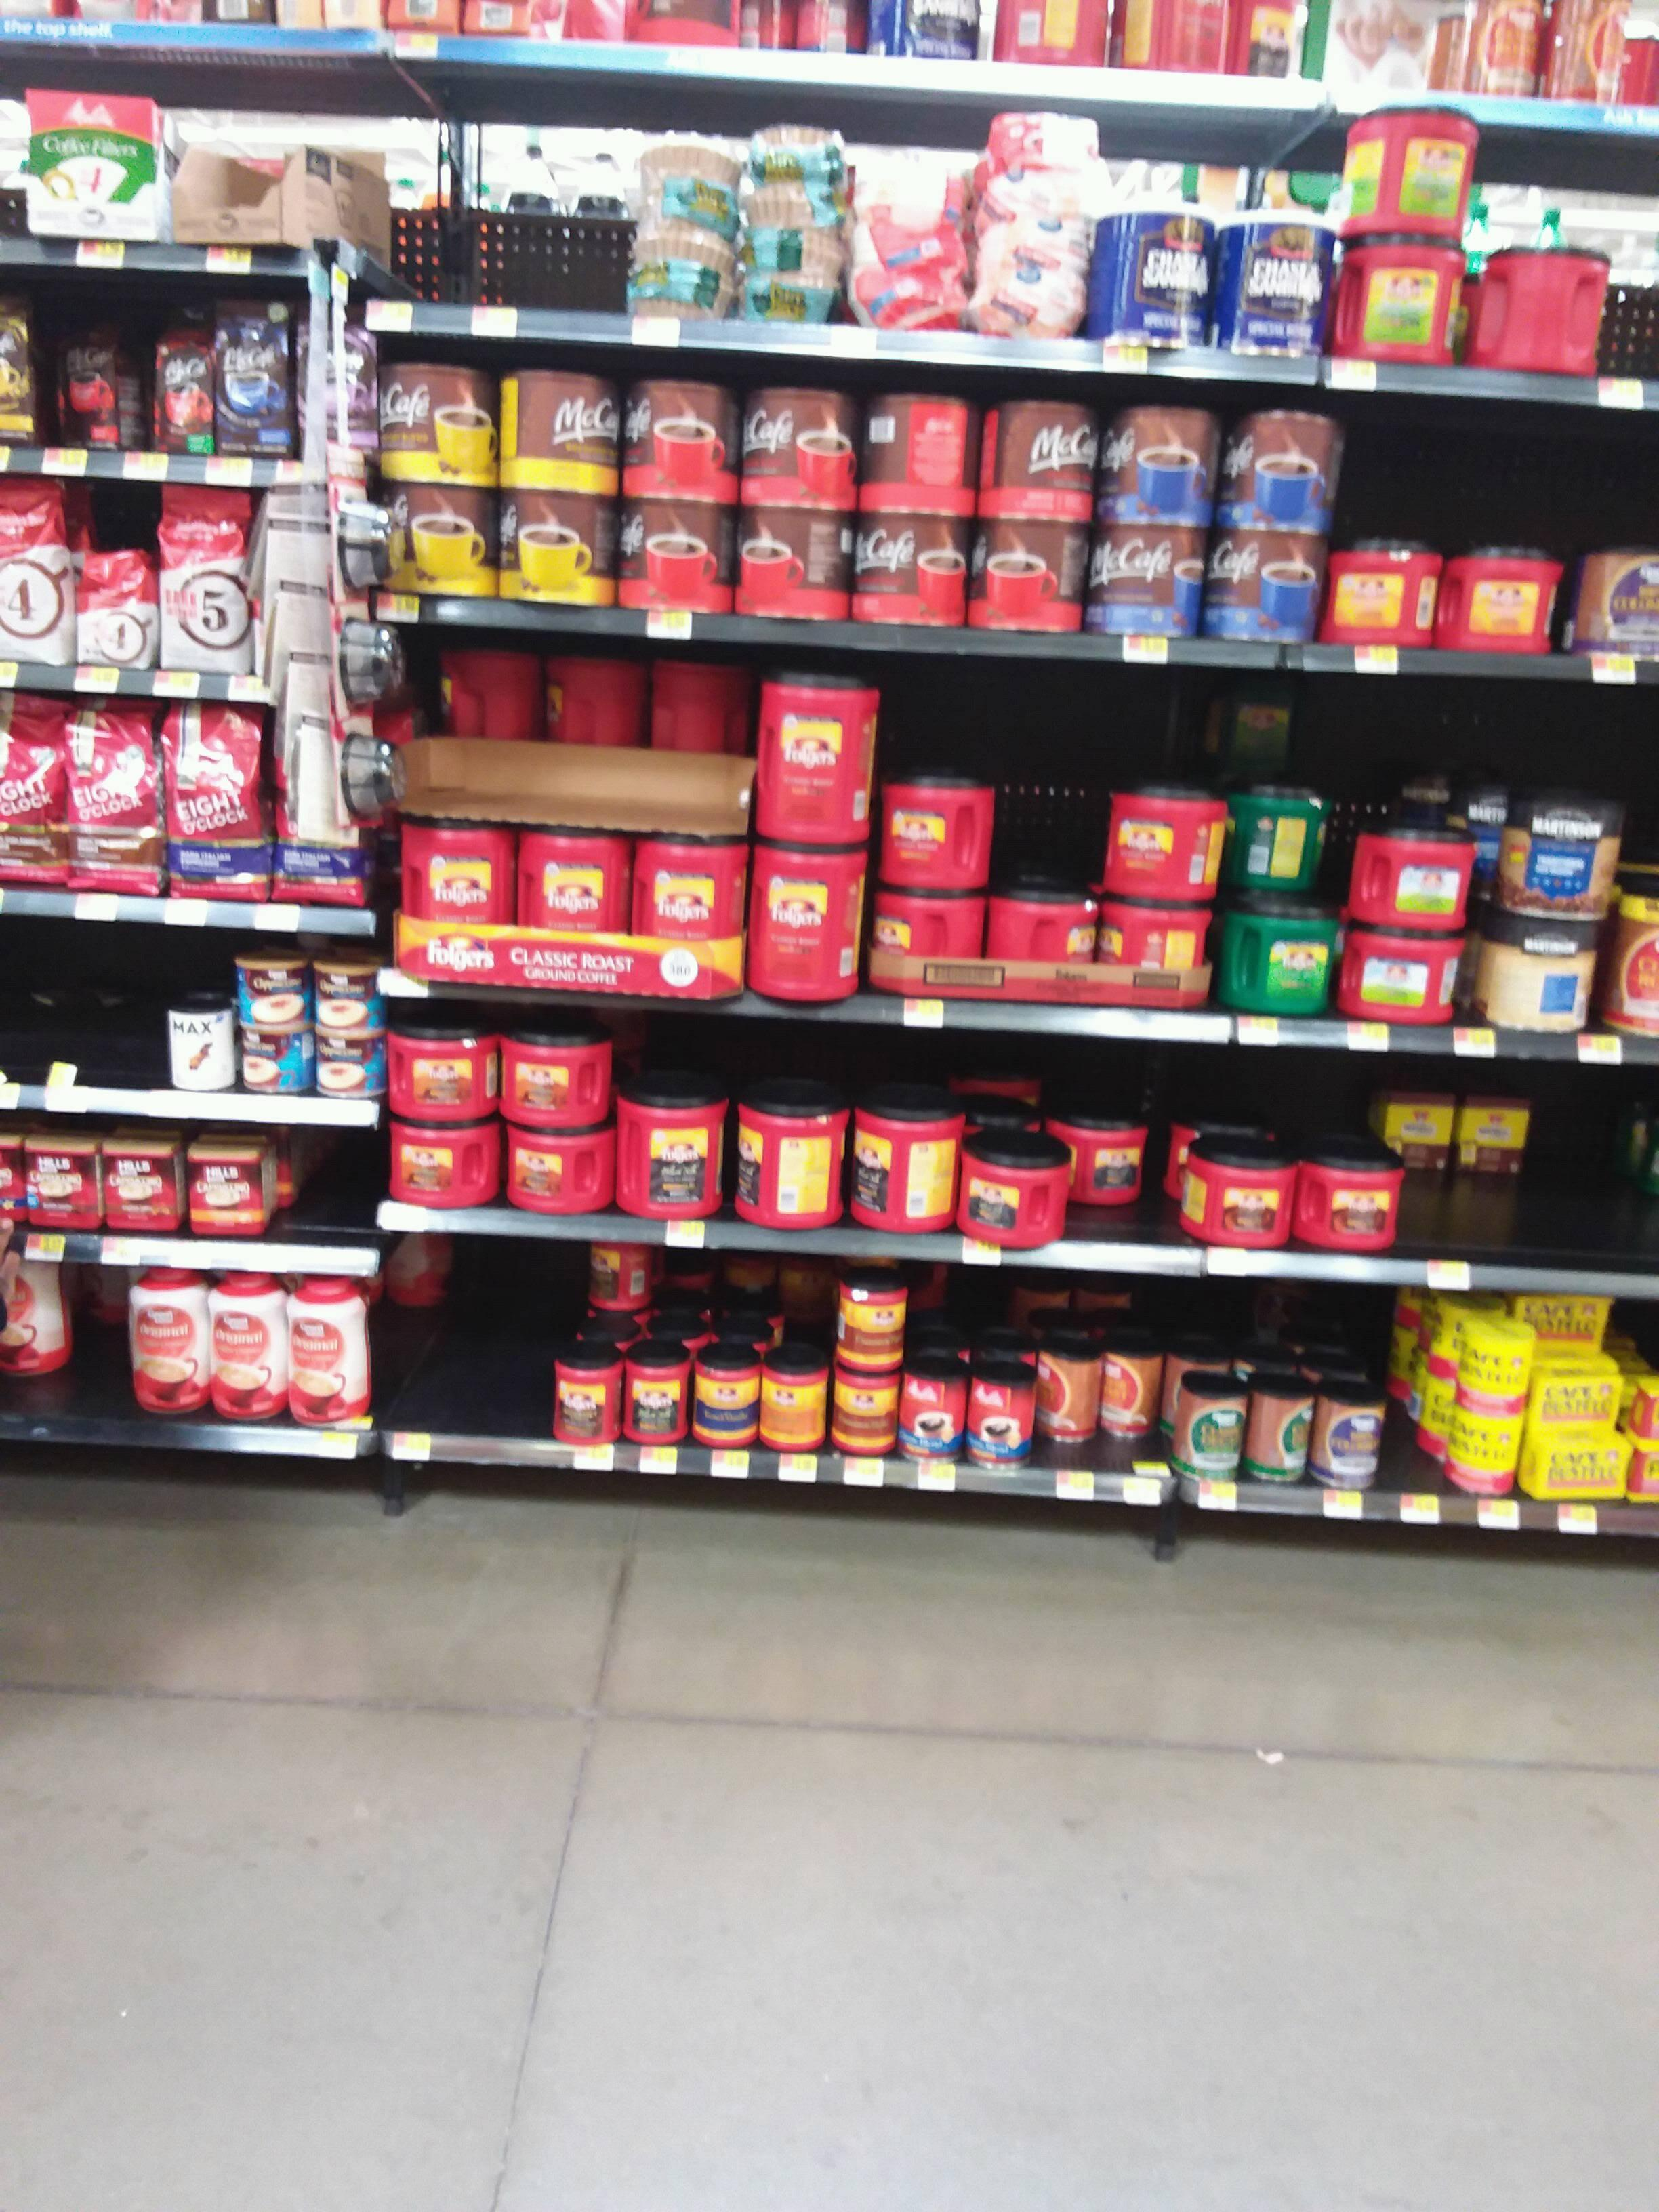empty: (1563, 1127, 1659, 1261), (999, 765, 1100, 883), (1413, 1116, 1486, 1256), (1493, 1125, 1565, 1264), (54, 1275, 129, 1407), (472, 1303, 547, 1435), (392, 1298, 465, 1430), (0, 989, 84, 1087), (284, 1134, 368, 1231), (77, 989, 159, 1089)
